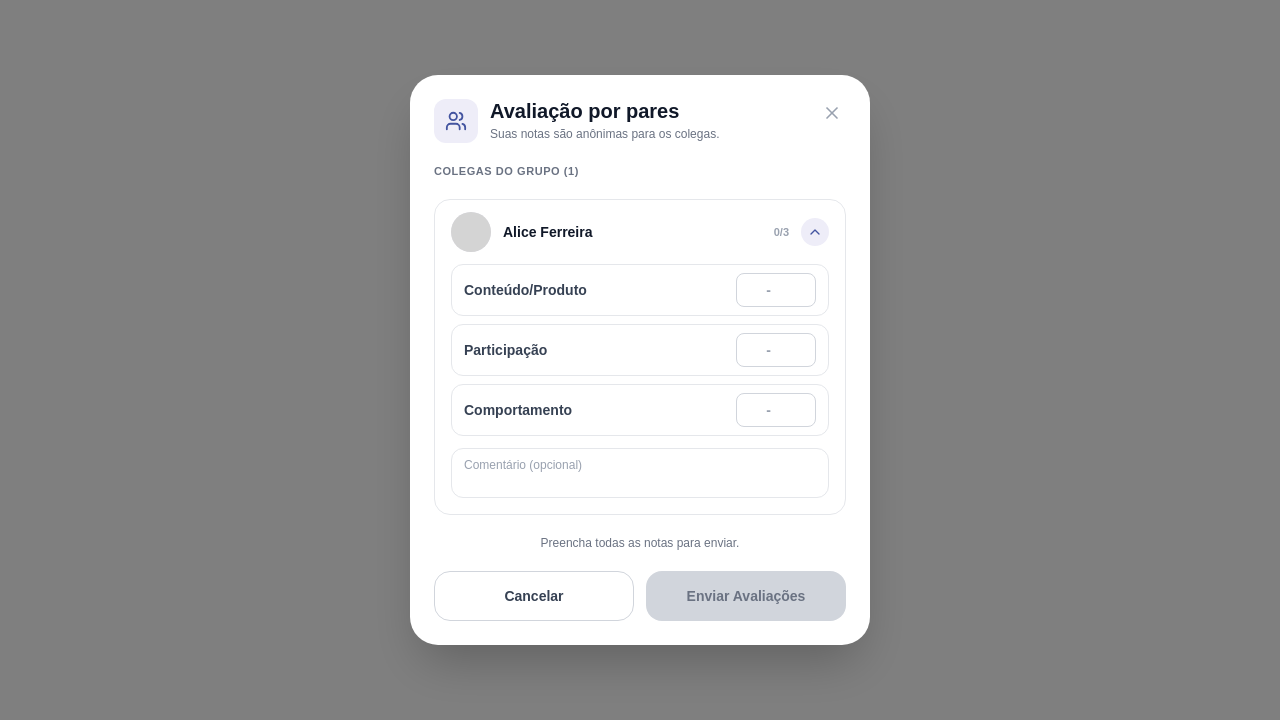
Test: [US14] PeerEvaluationModal › [QA] Deve limitar a nota digitada acima de 10 a 10 e a abaixo de 0 a 0
In the number field labelled "Conteúdo/Produto": (776, 290) [736,273,816,307], type "15"
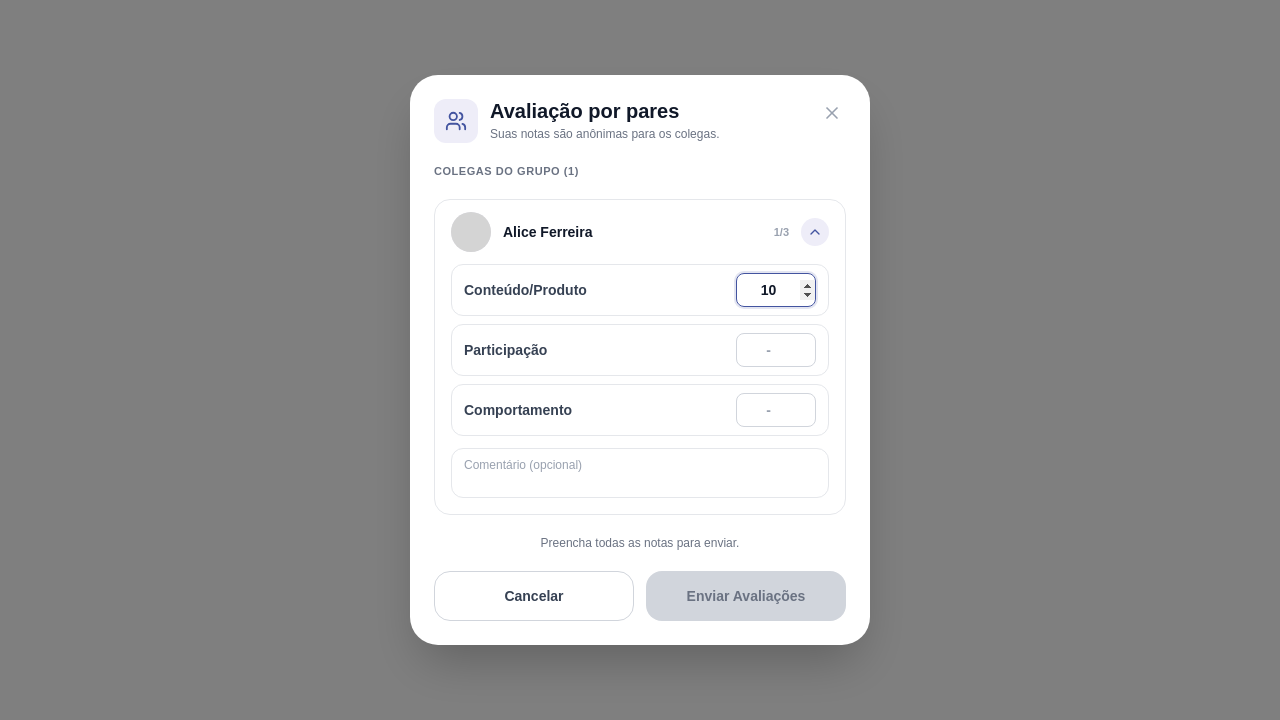
In the number field labelled "Participação": (776, 350) [736,333,816,367], type "-1"
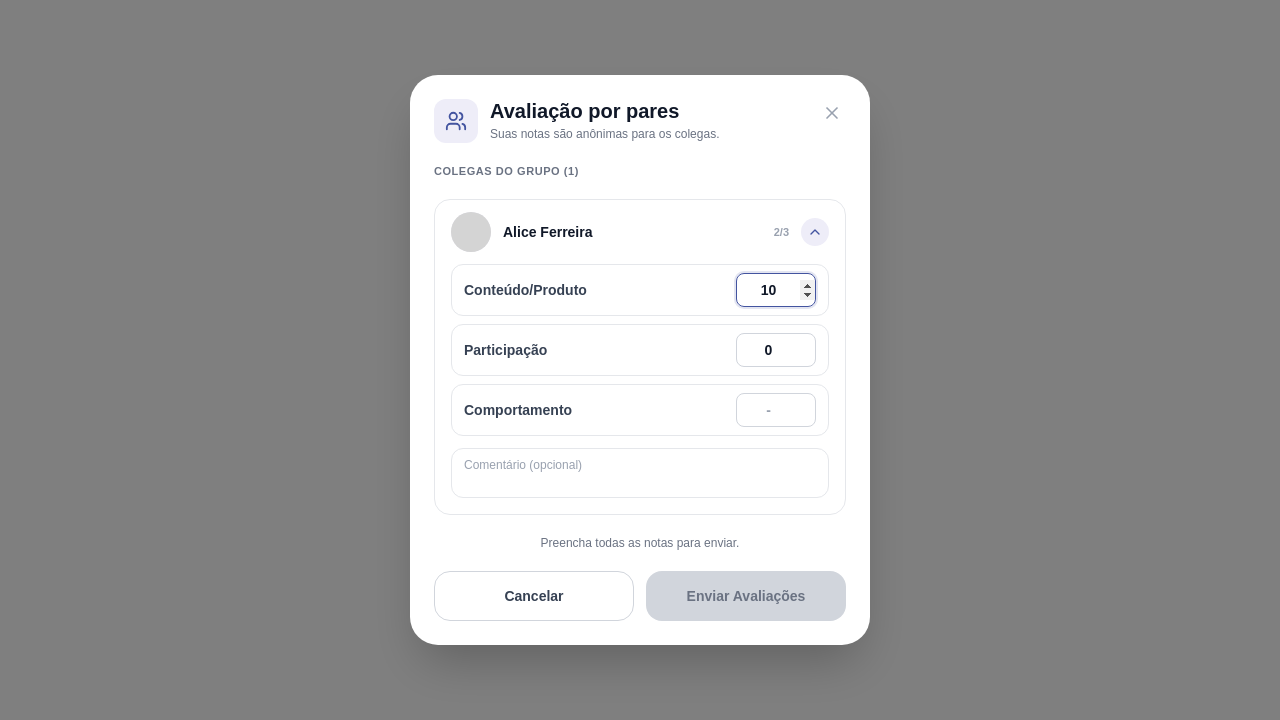
Expected: the number field labelled "Conteúdo/Produto" holds "10", [736,273,816,307]
Expected: the number field labelled "Participação" holds "0", [736,333,816,367]
